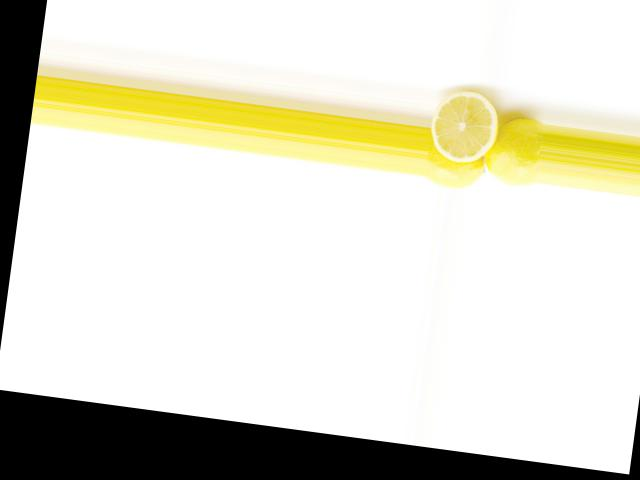lemon: (424, 128, 499, 190)
